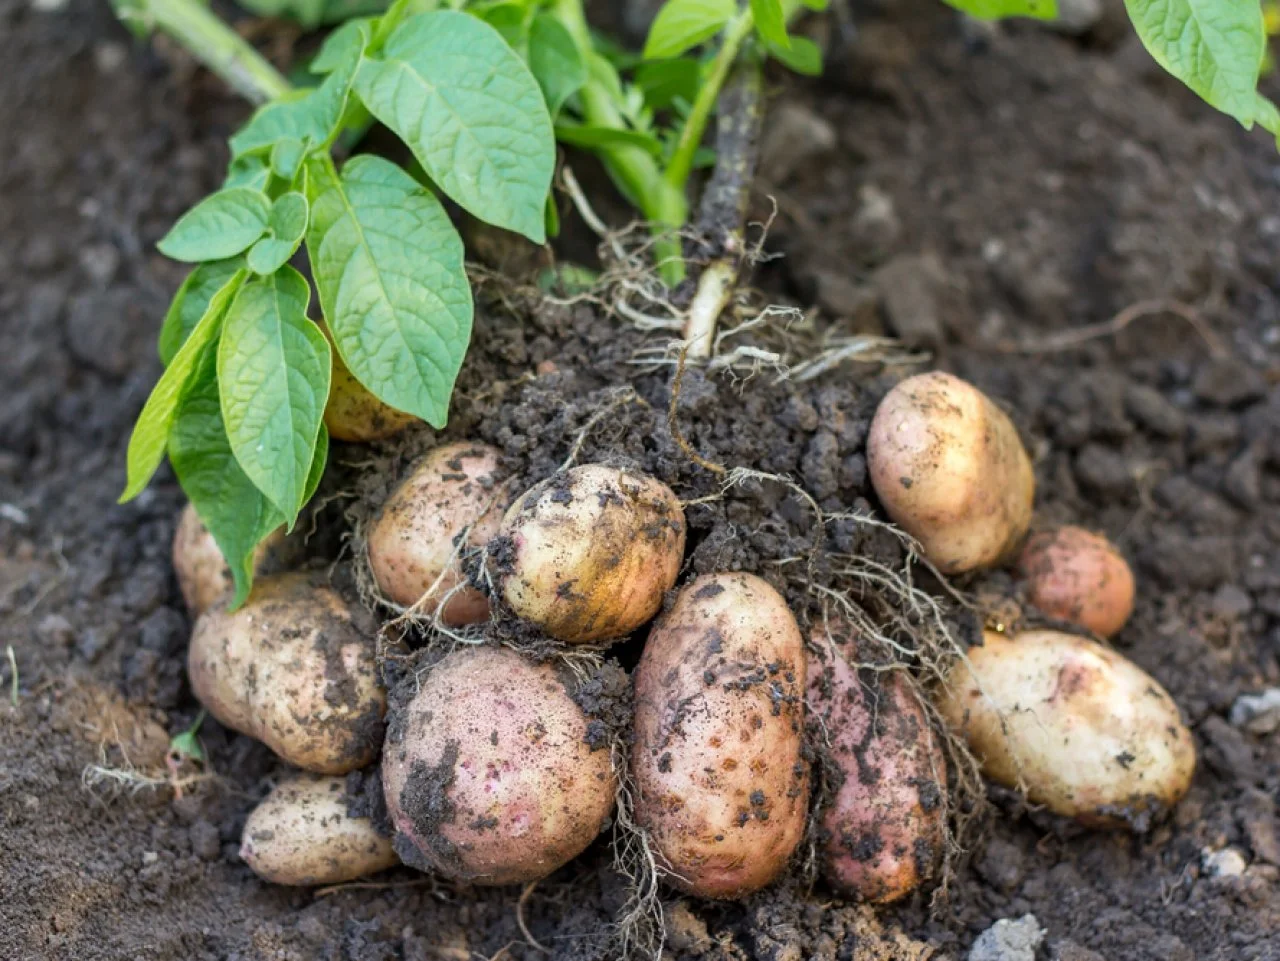potato: (827, 395, 1054, 612)
